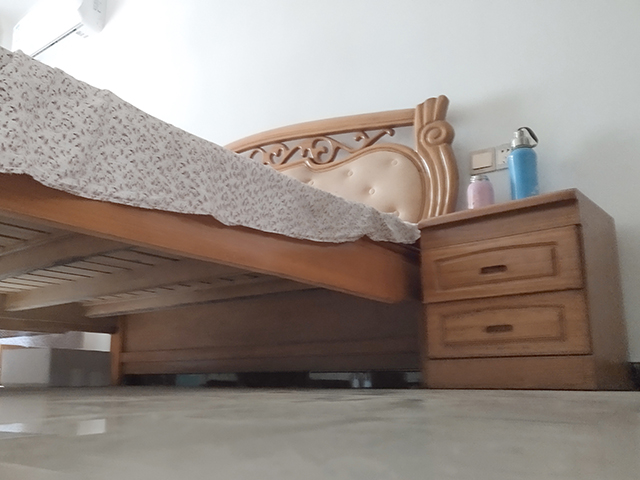bed: (1, 44, 461, 388)
cabinet: (415, 185, 634, 393)
